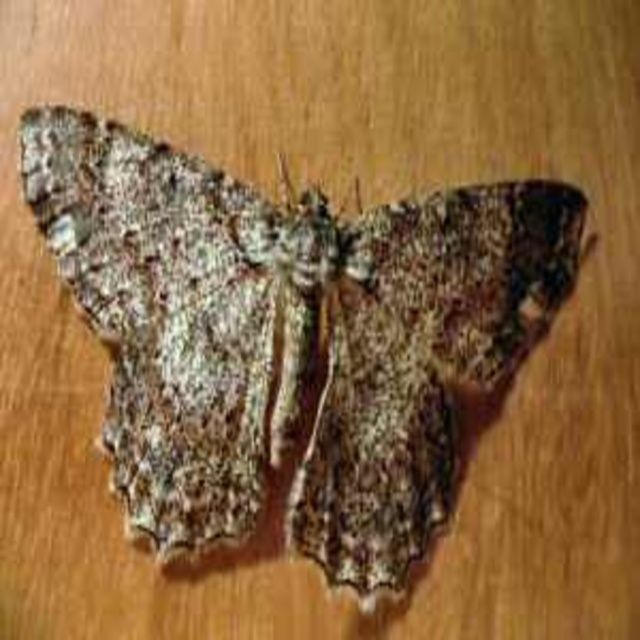Butterfly: (83, 125, 610, 640)
